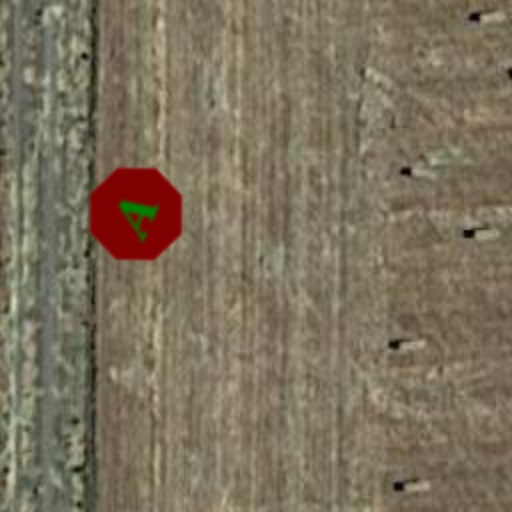octagon: (68, 146, 204, 282)
